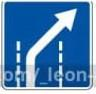road_sign: (0, 0, 94, 91)
